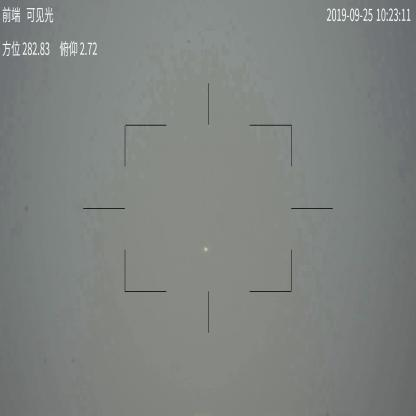uav: (204, 245, 209, 253)
